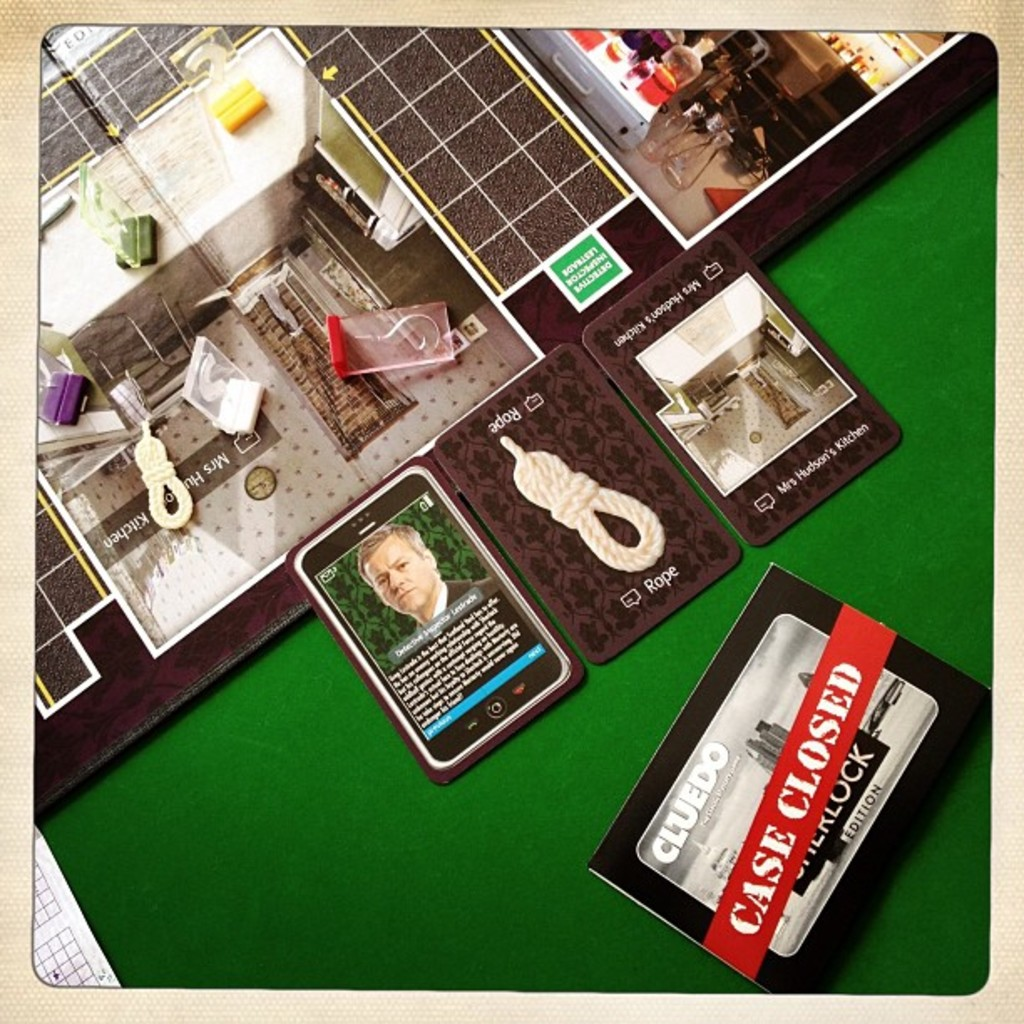mobile phone: (281, 456, 590, 794)
